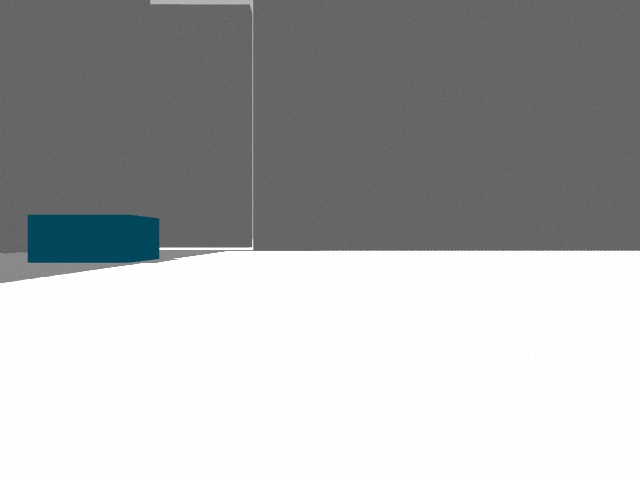blue_drop_zone: (28, 215, 159, 263)
